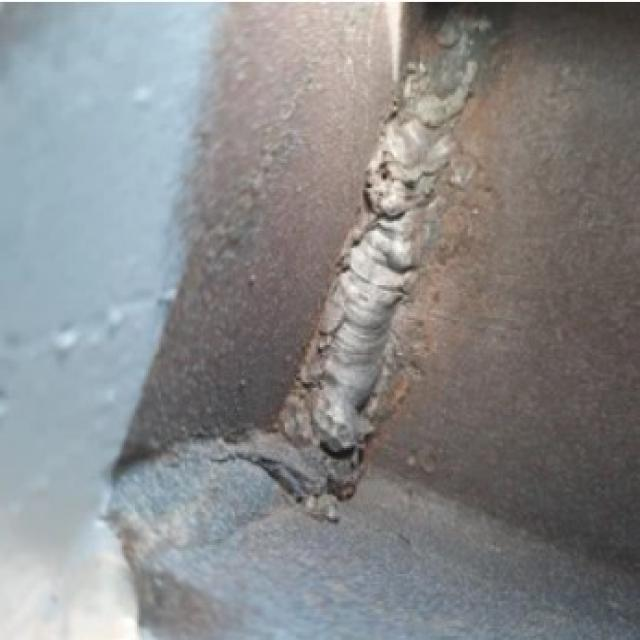Bad Welding: (276, 8, 496, 504), (98, 430, 354, 552)
